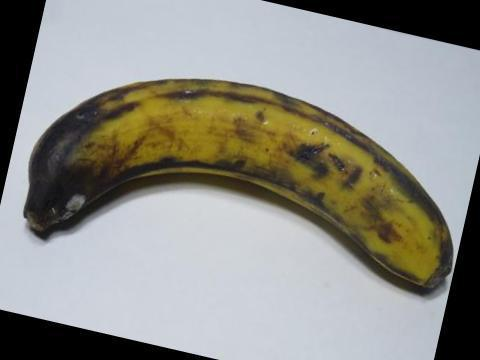overripe: (5, 59, 479, 326)
rotten: (11, 89, 159, 242)
